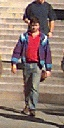person: (16, 22, 48, 115)
